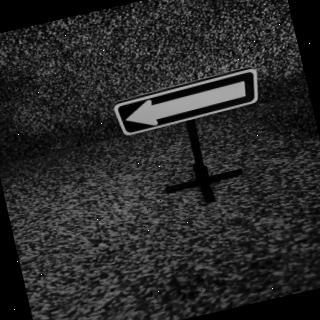sign_oneway_left: (112, 66, 266, 139)
